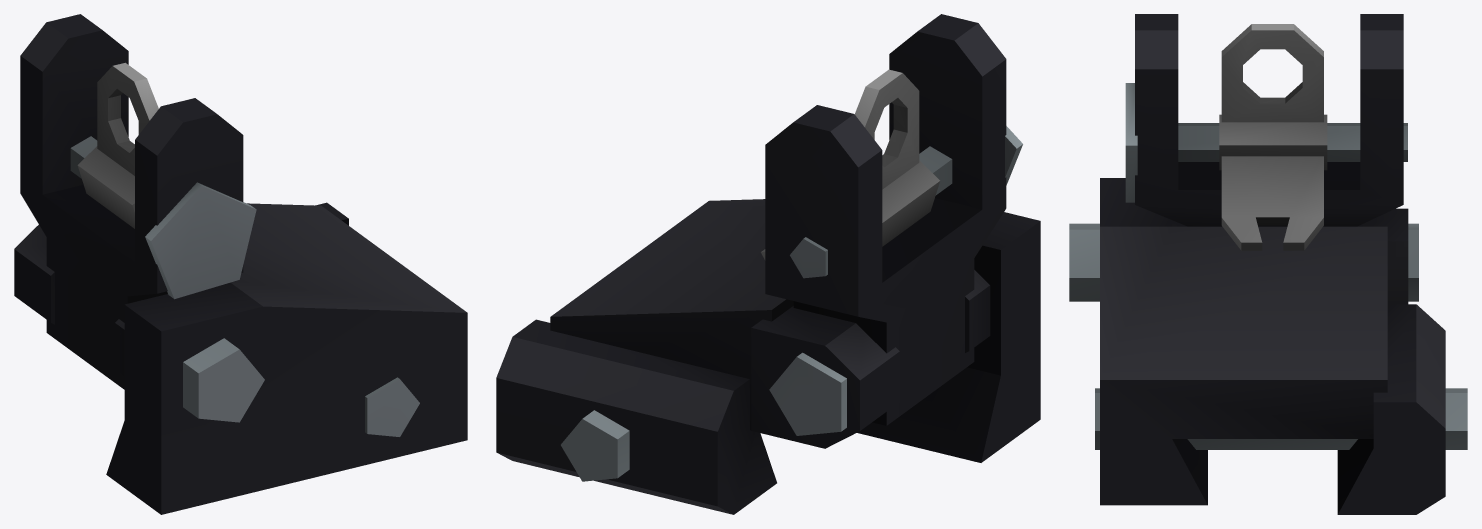
Rendered from k-ironsight-rear-rail-01.glb.
3 renders of one model, left to right at view 1: azimuth 30°, elevation 25°; view 2: azimuth 150°, elevation 25°; view 3: azimuth 270°, elevation 25°, orthographic. The views are drawn at different scales.
Parts seen in each view (by area): view 1: kit; view 2: kit; view 3: kit.
Part boxes in pixels (x1,y1,x2,y2): kit: (14,14,467,514); kit: (496,14,1040,514); kit: (1069,14,1467,514).
Bounding box in the file's own units: 0.0253 × 0.0274 × 0.0272.
1 material, 1 textured.
